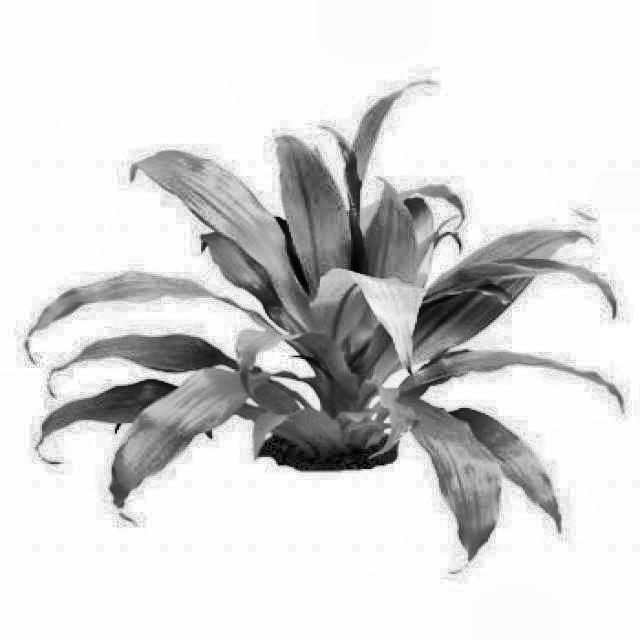plants: (47, 115, 638, 566)
